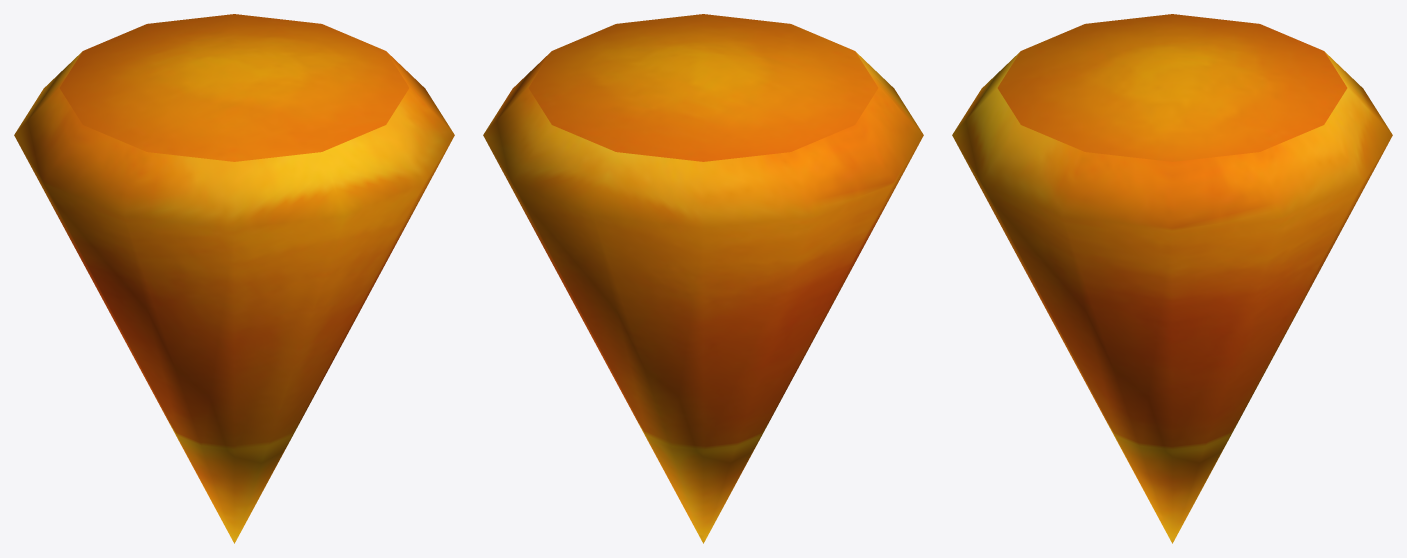
Rendered from tubiao.fbx.
The picture shows the model from 3 angles, left to right: view 1: azimuth 30°, elevation 25°; view 2: azimuth 150°, elevation 25°; view 3: azimuth 270°, elevation 25°; orthographic projection.
Visible parts, largest first — view 1: pCone2; view 2: pCone2; view 3: pCone2.
Boxes of the visible parts, box(x1,y1,x2,y2) form: pCone2: box(14, 14, 454, 543); pCone2: box(483, 14, 923, 543); pCone2: box(952, 14, 1392, 543).
Bounding box in the file's own units: 0.3342 × 0.4022 × 0.3342.
